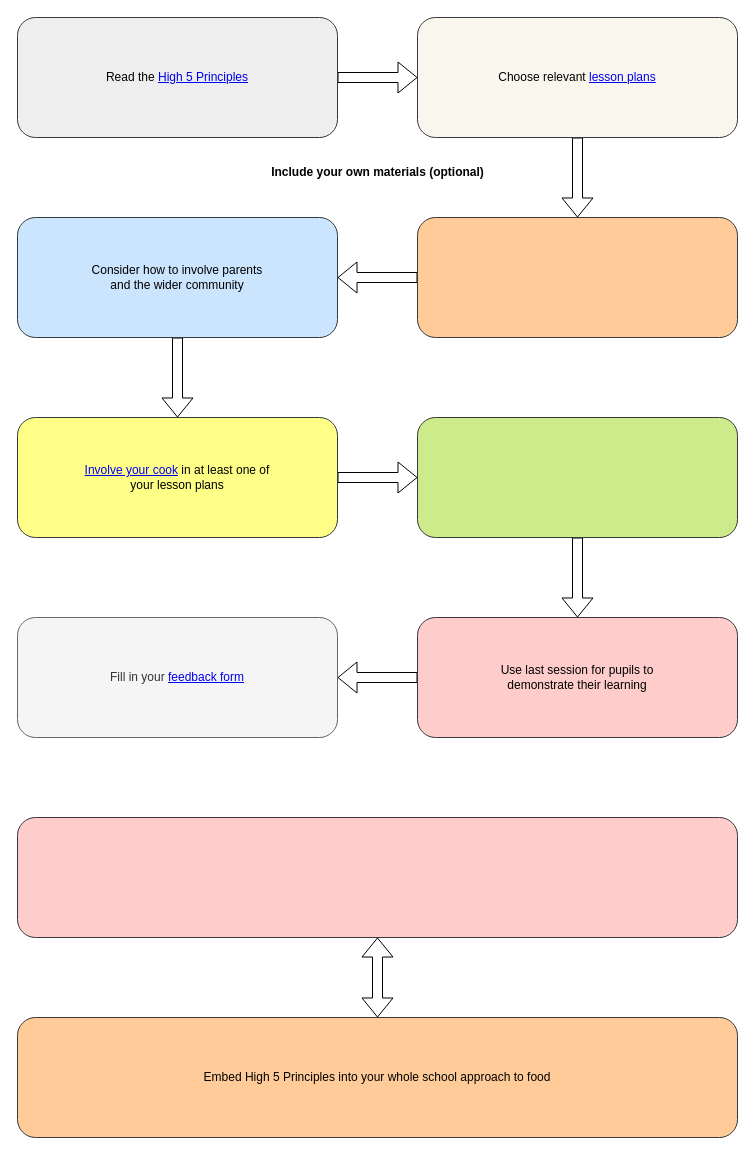
This 755x1155 diagram has some shape labels left out. The box of each missing label's shape, as (x1, y1, x2, y2) in pixels:
Choose and order your High 5 Supporting Resources: (416, 216, 738, 338)
Deliver your High 5 programme (4 - 8 lessons): (416, 416, 738, 538)
Make High 5 part of your 3 year planning cycle: (16, 816, 738, 938)
